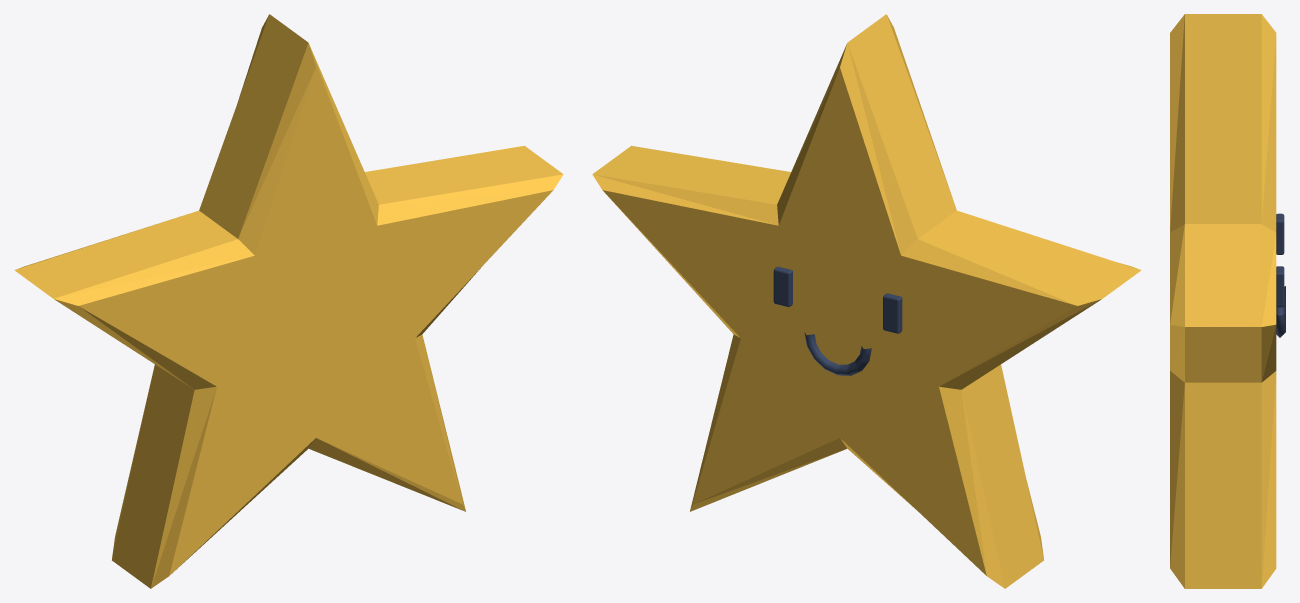
Rendered from collectible-star.glb.
3 views of the same model, side by side, from view 1: azimuth 30°, elevation 25°; view 2: azimuth 150°, elevation 25°; view 3: azimuth 270°, elevation 25° (orthographic).
Visible parts, largest first — view 1: star; view 2: star, smile, eye--0.105, eye-0.105; view 3: star, eye-0.105, eye--0.105, smile.
Boxes of the visible parts, bbox=[...] form: star: bbox=[14, 14, 563, 588]; star: bbox=[592, 14, 1141, 588]; smile: bbox=[804, 332, 871, 375]; eye--0.105: bbox=[883, 293, 902, 333]; eye-0.105: bbox=[773, 266, 792, 306]; star: bbox=[1170, 14, 1276, 588]; eye-0.105: bbox=[1276, 266, 1284, 307]; eye--0.105: bbox=[1276, 213, 1284, 254]; smile: bbox=[1276, 286, 1285, 337].
Bounding box in the file's own units: 0.9803 × 0.9323 × 0.196.
